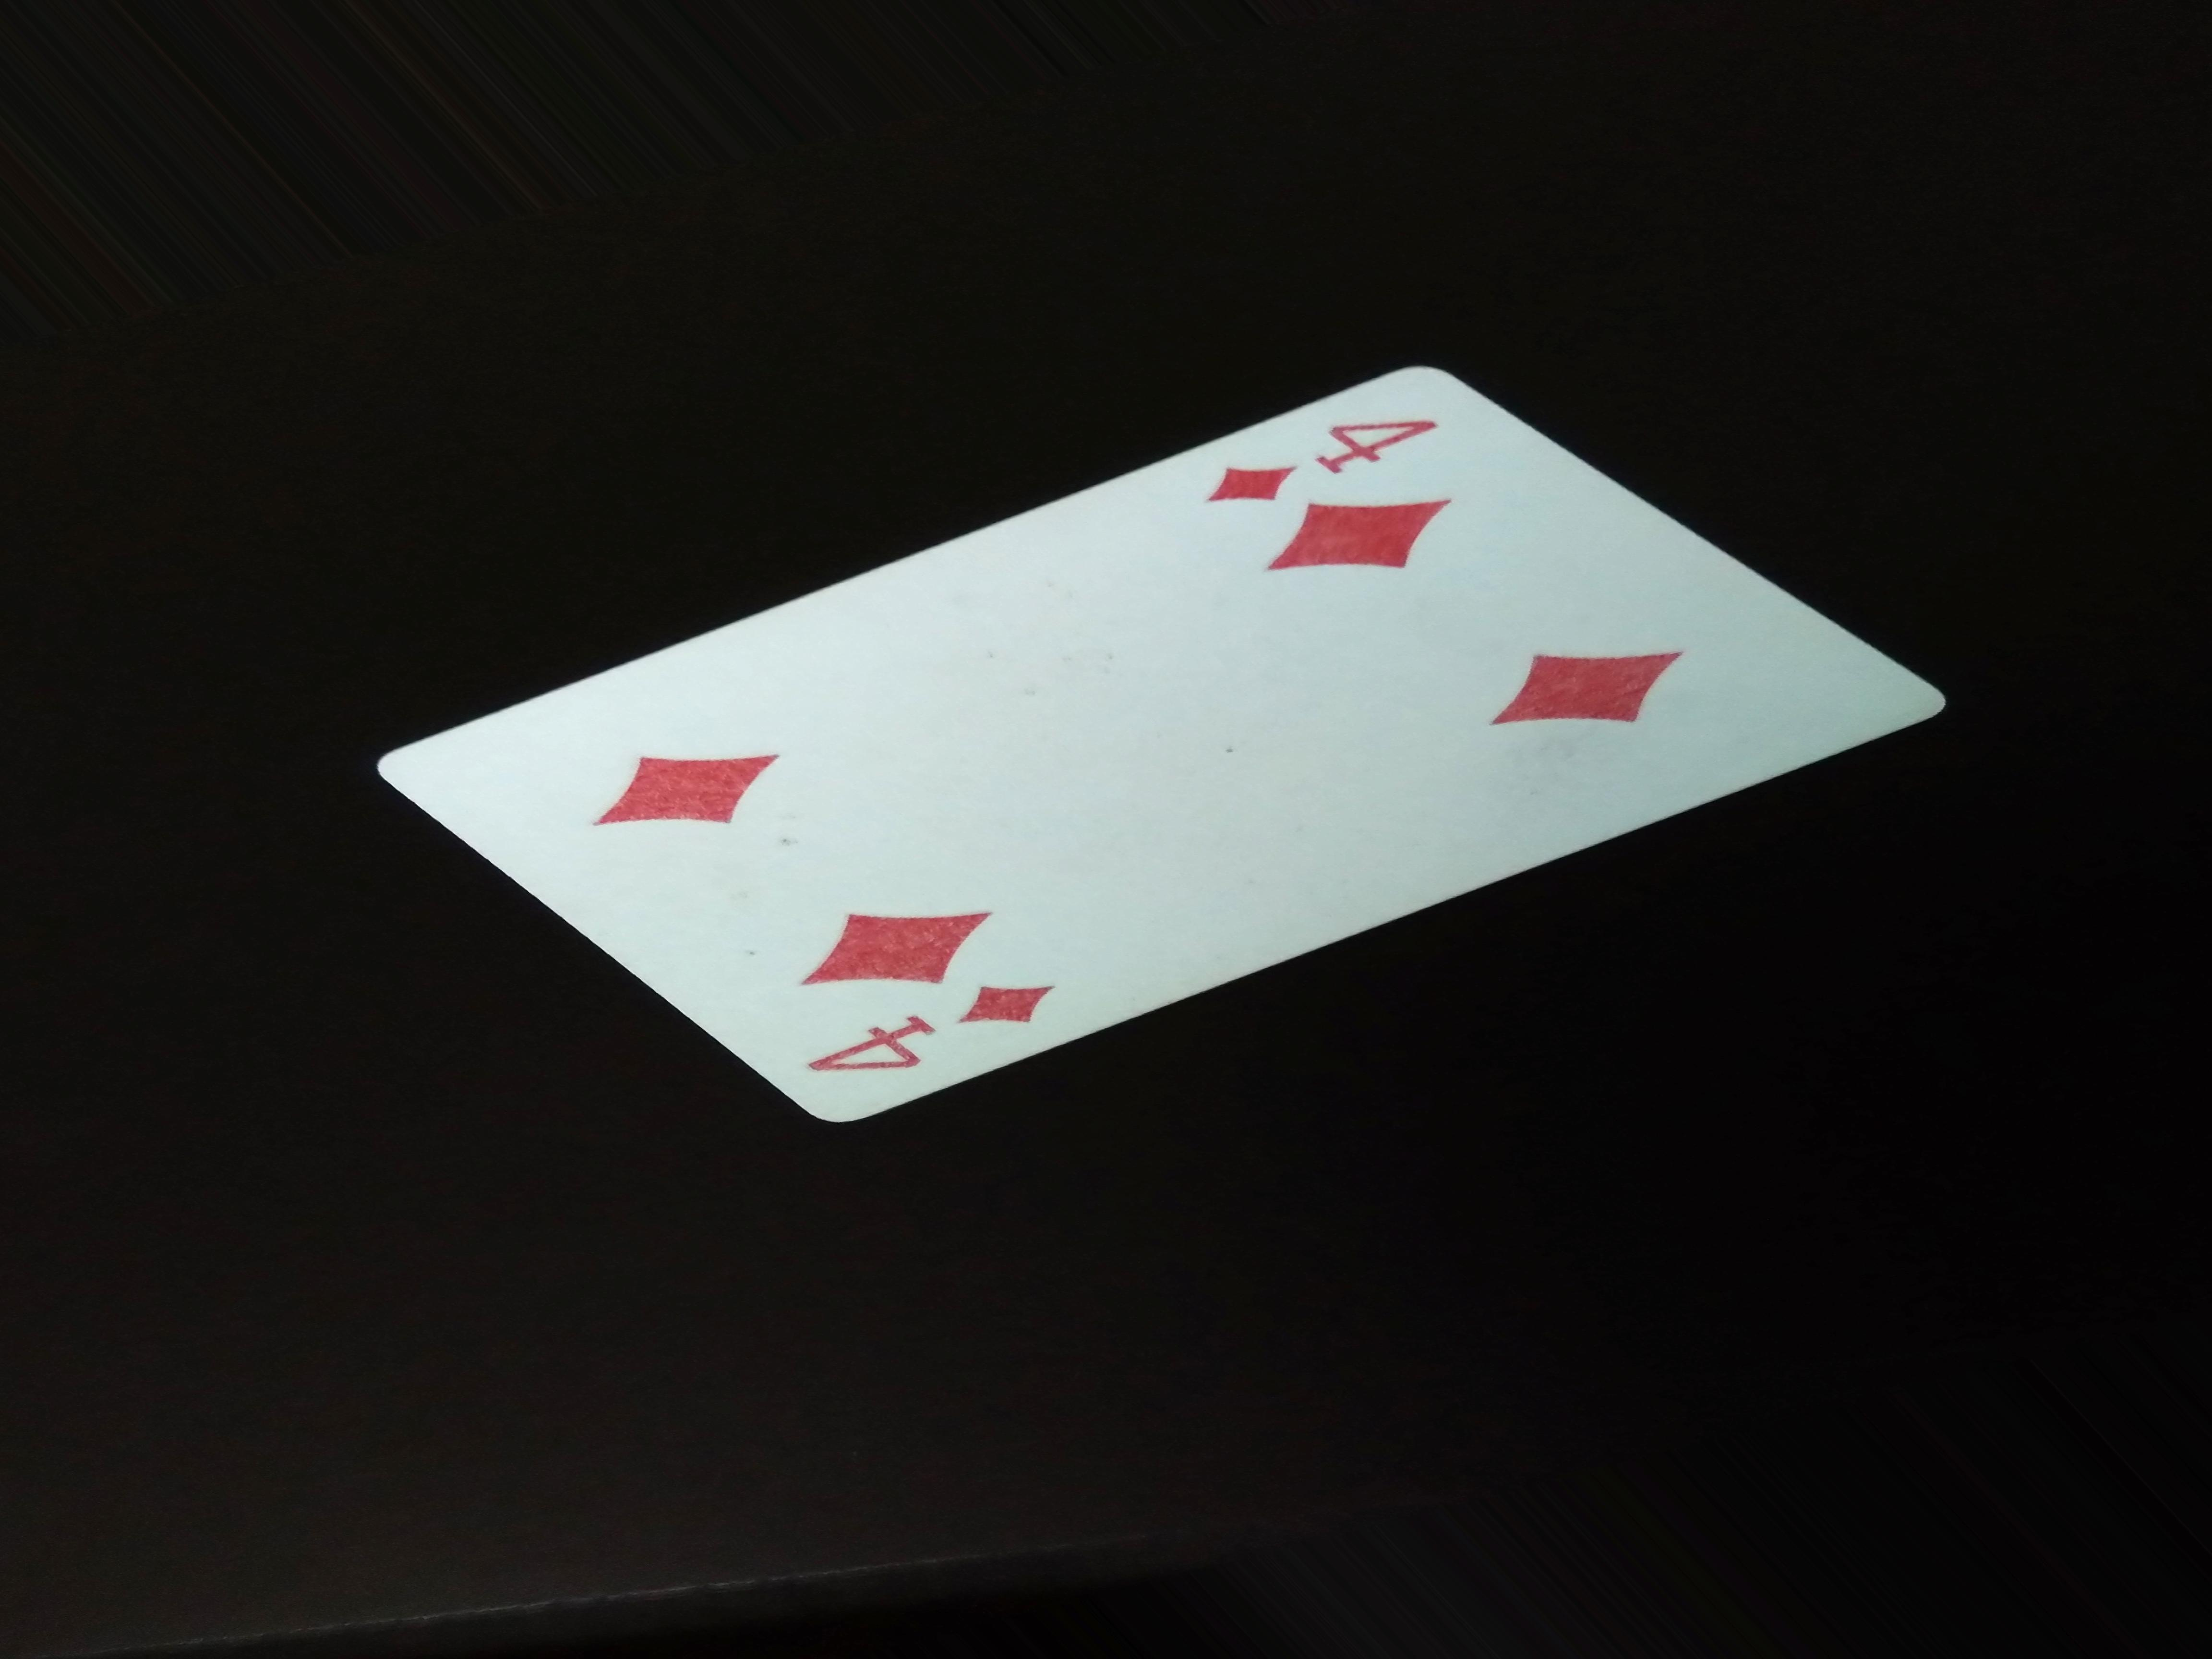4D: (1177, 415, 1446, 521)
